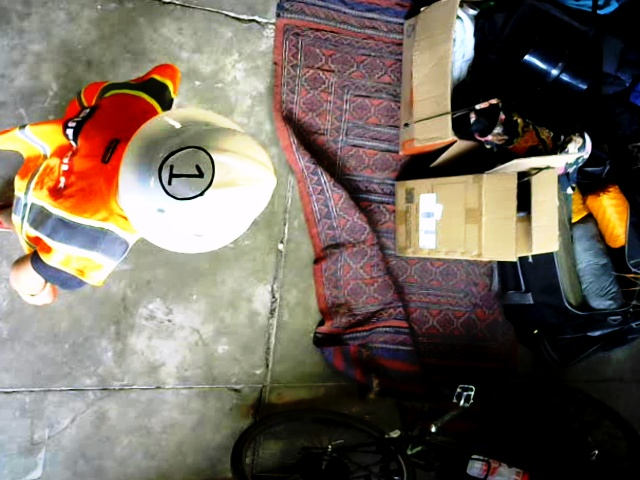one: (156, 146, 216, 199)
